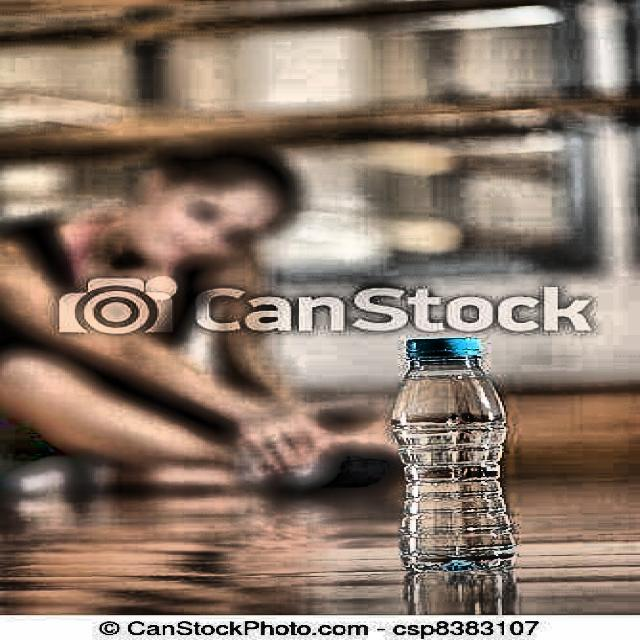Bottles: (359, 336, 542, 582)
